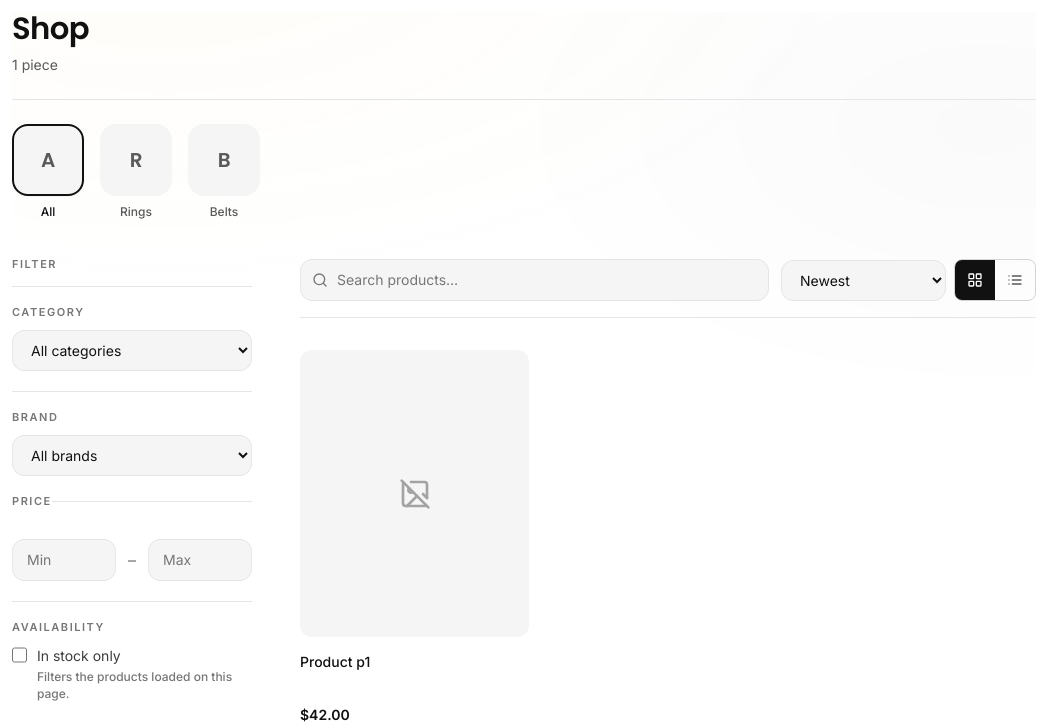
Test: Products (PLP) › applying the category filter updates the URL and re-queries the API
Expected: the link "Product p1" is shown, [300, 653, 370, 670]
Select "Rings" in the dropdown named "All categories": (132,351) [12, 330, 252, 372]
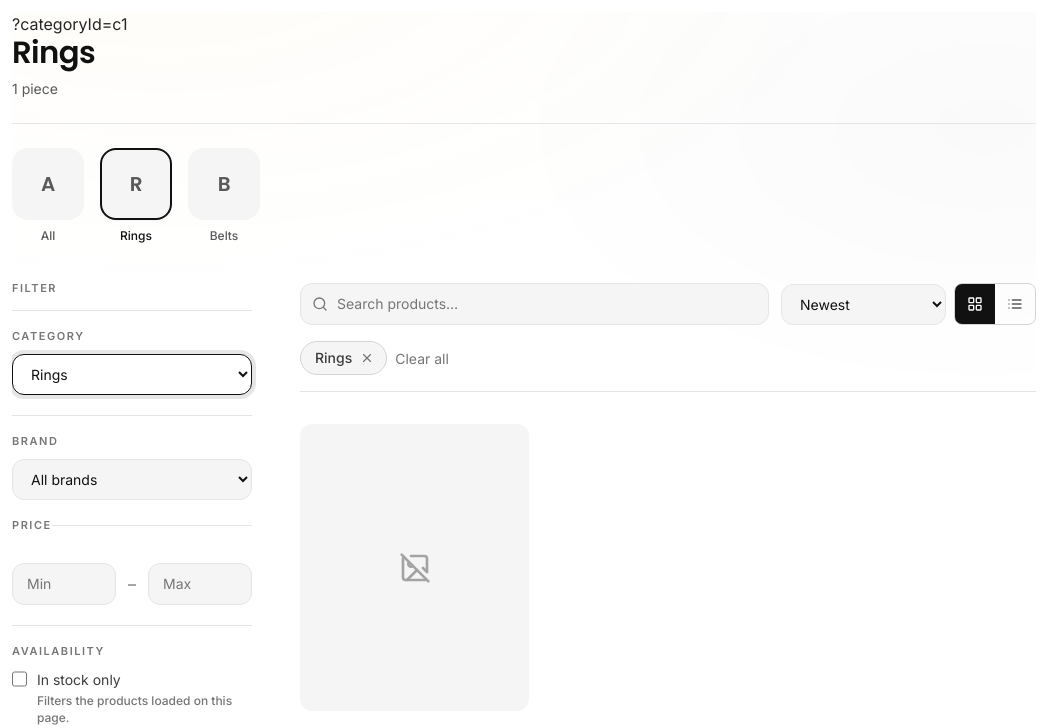
Expected: the text with test id "loc-search" shows "categoryId=c1", [12, 14, 127, 34]
